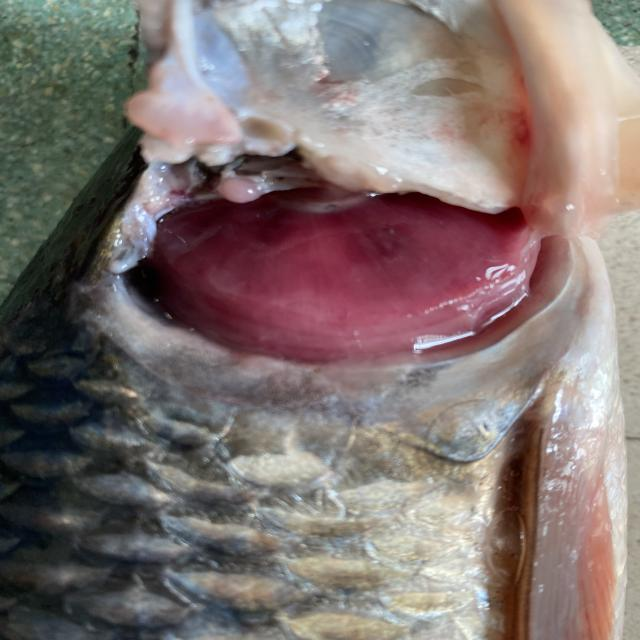Fresh: (120, 164, 594, 371)
